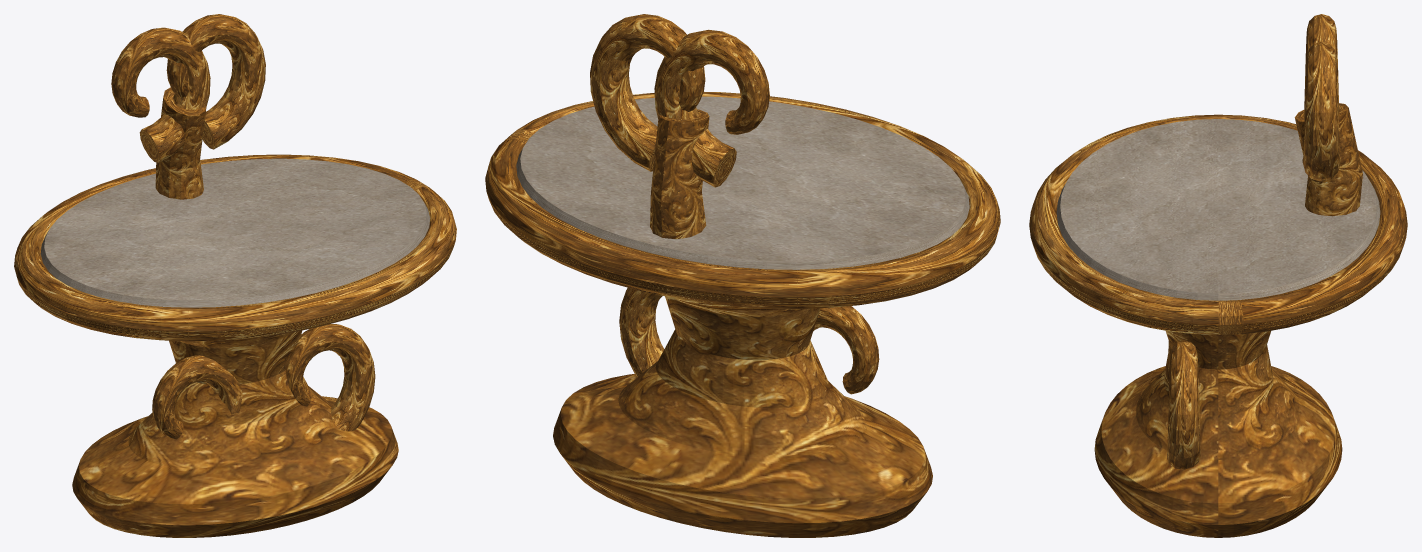
File: seal.obj
The picture shows the model from 3 angles, left to right: view 1: azimuth 30°, elevation 25°; view 2: azimuth 150°, elevation 25°; view 3: azimuth 270°, elevation 25°; orthographic projection. The views are drawn at different scales.
Parts seen in each view (by area): view 1: blank_face, pedestal, oval_frame, crown-1, crown1, foot_scroll1, foot_scroll-1, rear_neck; view 2: pedestal, blank_face, oval_frame, crown1, crown-1, rear_neck, foot_scroll-1, foot_scroll1; view 3: blank_face, pedestal, oval_frame, crown1, foot_scroll1, rear_neck, crown-1.
Boxes of the visible parts, box(x1,y1,x2,y2) form: blank_face: box(40, 158, 430, 307); pedestal: box(72, 330, 398, 537); oval_frame: box(14, 154, 456, 341); crown-1: box(111, 27, 210, 162); crown1: box(166, 14, 265, 149); foot_scroll1: box(286, 324, 375, 431); foot_scroll-1: box(152, 355, 242, 439); rear_neck: box(155, 87, 206, 199); pedestal: box(553, 296, 932, 537); blank_face: box(516, 96, 969, 269); oval_frame: box(485, 92, 1000, 308); crown1: box(590, 14, 705, 171); crown-1: box(654, 29, 769, 187); rear_neck: box(650, 109, 709, 239); foot_scroll-1: box(813, 306, 879, 394); foot_scroll1: box(619, 287, 664, 377); blank_face: box(1056, 119, 1380, 300); pedestal: box(1094, 331, 1342, 537); oval_frame: box(1029, 114, 1407, 334); crown1: box(1302, 41, 1340, 181); foot_scroll1: box(1167, 340, 1200, 469); rear_neck: box(1294, 103, 1362, 216); crown-1: box(1304, 14, 1339, 118).
Size of the model in its own units: 77 by 77.93 by 61.38.
2 materials, 2 textured.
